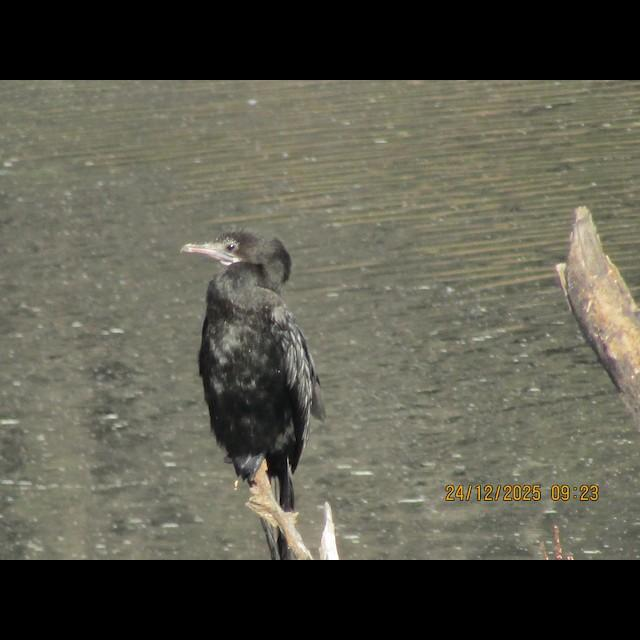cormorant: (176, 224, 316, 546)
